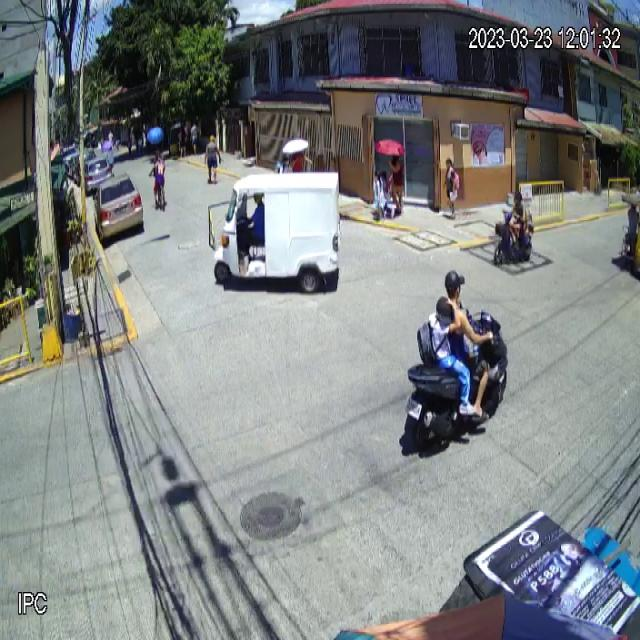Motorcycle: (404, 310, 508, 449)
